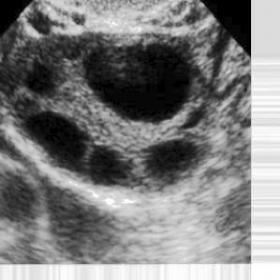PCOS: (87, 42, 192, 112), (30, 104, 90, 166), (147, 140, 199, 174), (94, 143, 134, 184), (31, 58, 60, 101), (29, 5, 57, 44), (66, 12, 90, 27)
